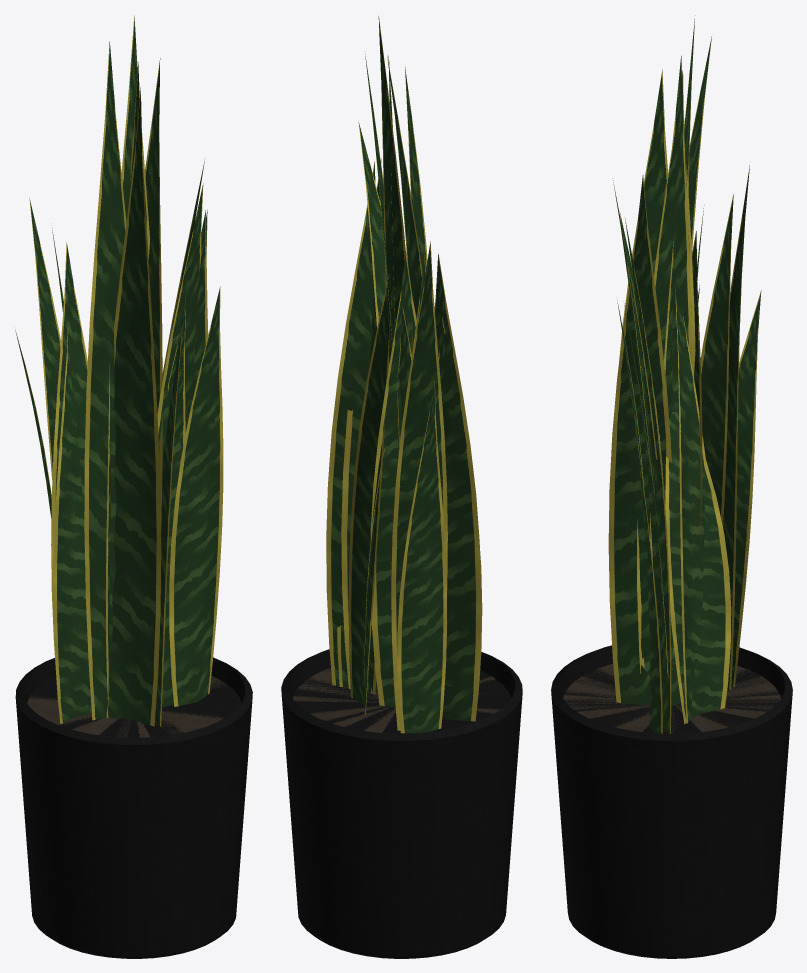
Rendered from SnakePlant.obj.
3 renders of one model, left to right at view 1: azimuth 30°, elevation 25°; view 2: azimuth 150°, elevation 25°; view 3: azimuth 270°, elevation 25°, orthographic.
Parts seen in each view (by area): view 1: Leaf, Pot, Soil; view 2: Leaf, Pot, Soil; view 3: Leaf, Pot, Soil.
Part boxes in pixels (left/top/right/bottom): Leaf: left=15, top=15, right=223, bottom=726; Pot: left=15, top=657, right=252, bottom=958; Soil: left=27, top=676, right=226, bottom=737; Leaf: left=326, top=16, right=482, bottom=733; Pot: left=281, top=649, right=522, bottom=958; Soil: left=293, top=668, right=507, bottom=732; Leaf: left=608, top=15, right=761, bottom=733; Pot: left=551, top=645, right=792, bottom=958; Soil: left=563, top=664, right=780, bottom=733.
Size of the model in its own units: 0.26 by 1.08 by 0.26.
3 materials, 3 textured.
